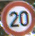20 km speed: (1, 1, 34, 36)
